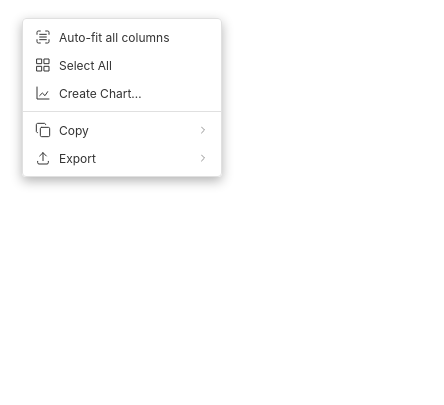
Scenario: ExportMenu › shows Copy submenu on hover
The width and height of the screenshot is (444, 405).
Hover over the element with test id "copy-submenu-container".
mouse_move(122, 130)  # box x1=23 y1=116 x2=221 y2=144
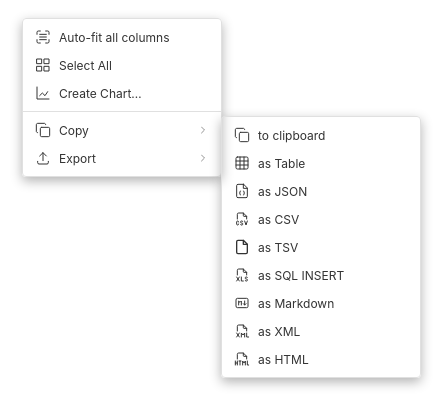
Now the element with test id "copy-submenu" is shown, box x1=221 y1=116 x2=421 y2=378
